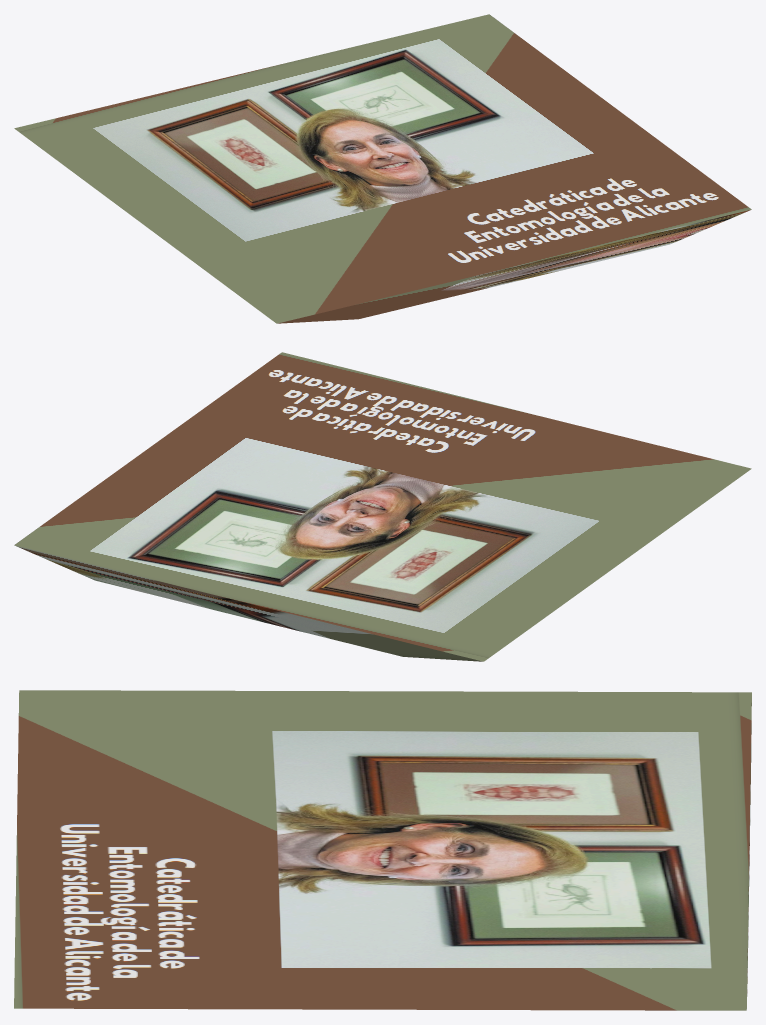
File: curriangeles1.glb
3 views of the same model, one above another, from view 1: azimuth 30°, elevation 25°; view 2: azimuth 150°, elevation 25°; view 3: azimuth 270°, elevation 25° (orthographic). The views are drawn at different scales.
Parts seen in each view (by area): view 1: Cube; view 2: Cube; view 3: Cube.
Part boxes in pixels (x1,y1,x2,y2): Cube: [14, 14, 751, 323]; Cube: [14, 352, 751, 661]; Cube: [14, 690, 751, 1010].
Bounding box in the file's own units: 16.61 × 0.5068 × 16.16.
Materials: 1 (1 with a texture image).
